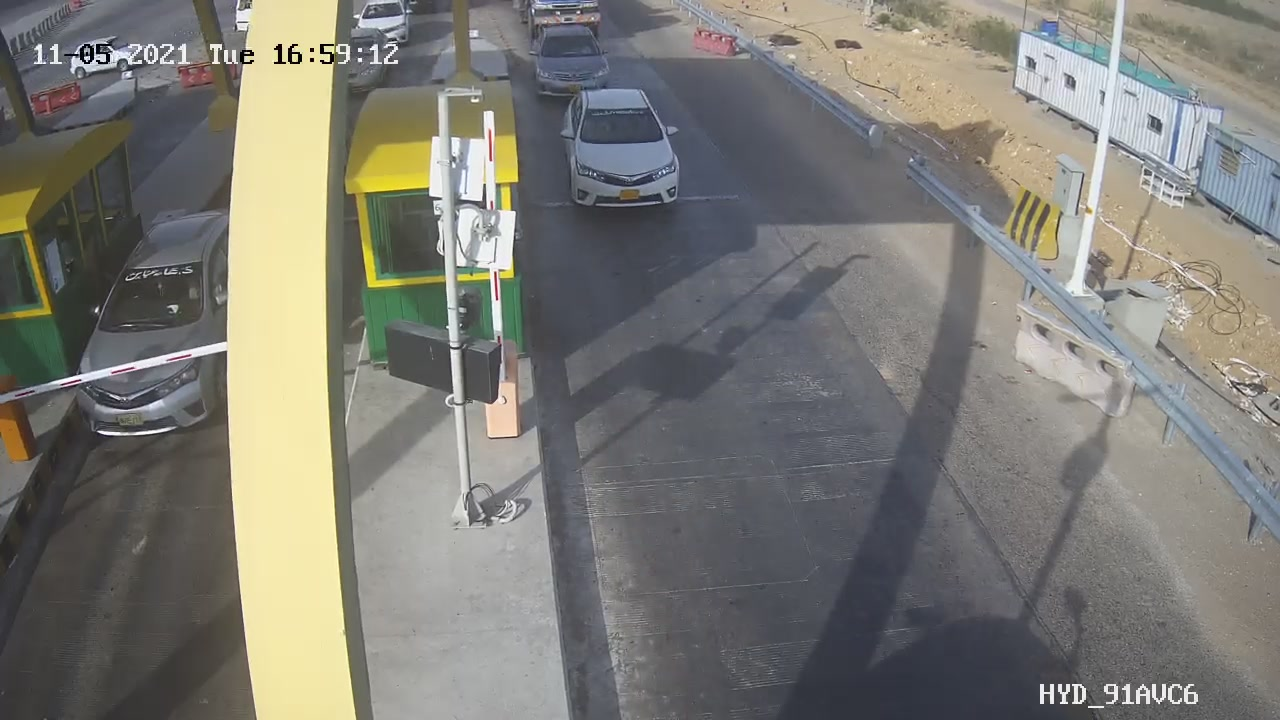F1: (546, 72, 696, 227)
